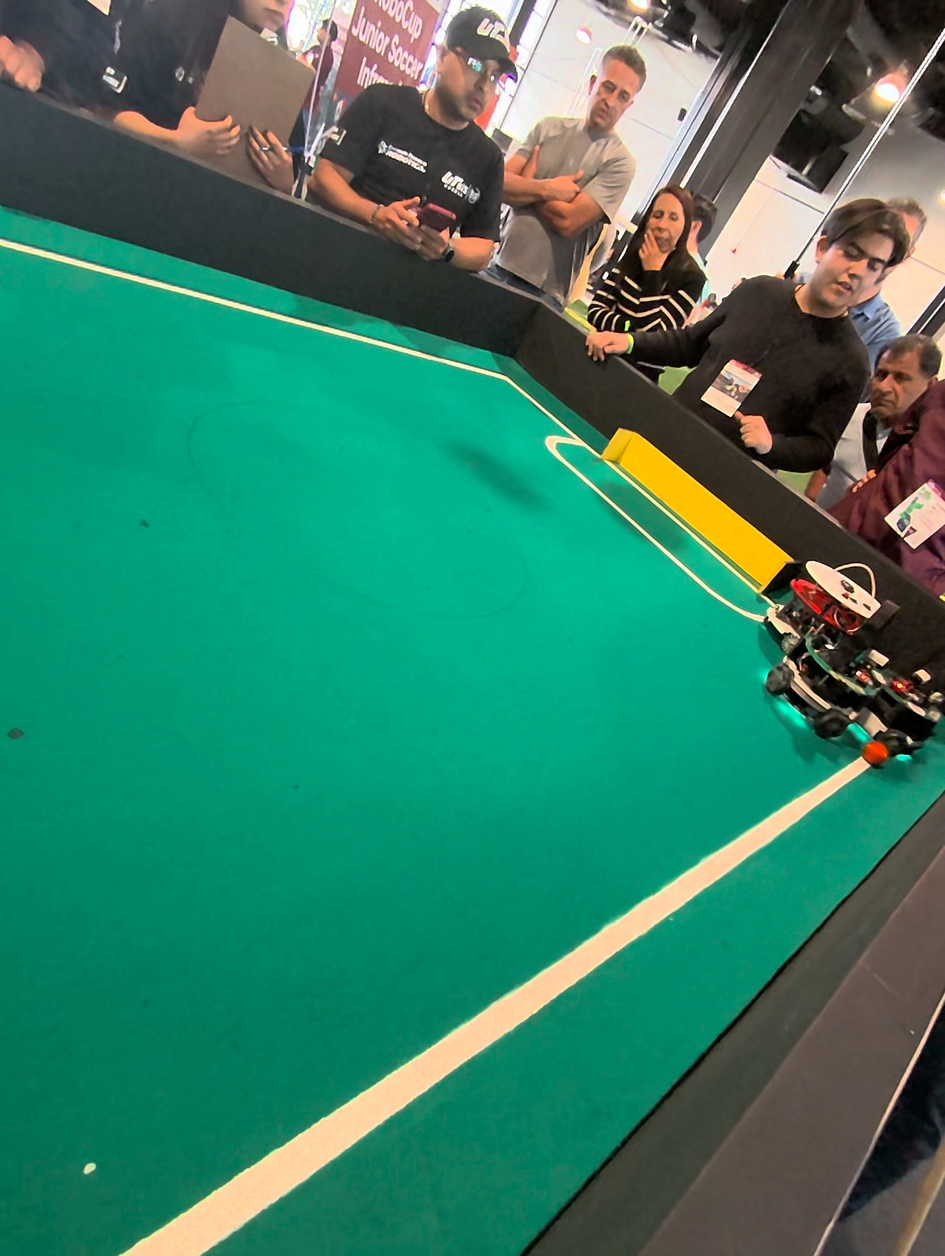Robot: (758, 633, 882, 758), (841, 645, 938, 792), (773, 545, 875, 660)
